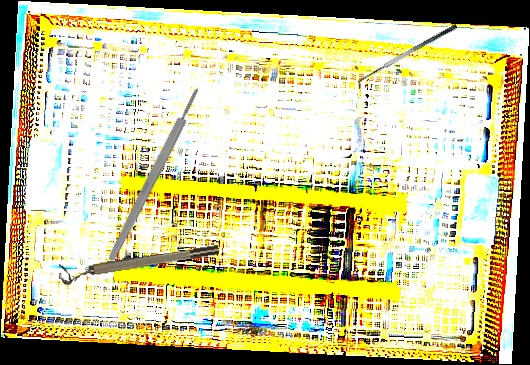Fixation Ring: (59, 241, 221, 287)
Scalpel Handle: (105, 86, 204, 263)
Spatula Surgical: (354, 23, 462, 90)
